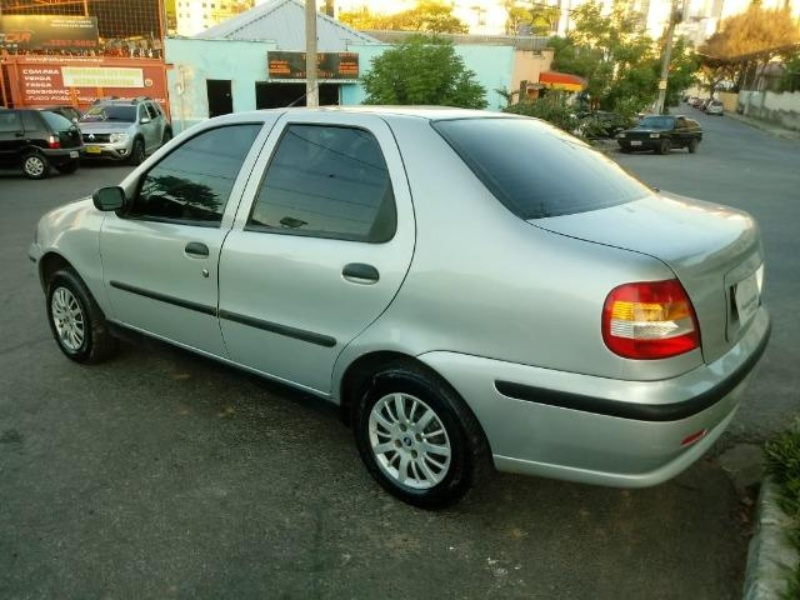Fiat Siena 2001-06: (64, 80, 784, 501)
